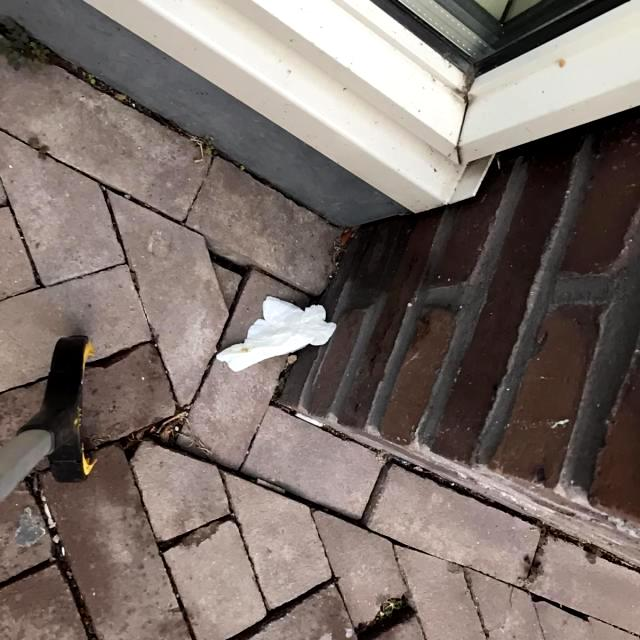Paper: (214, 292, 338, 374)
